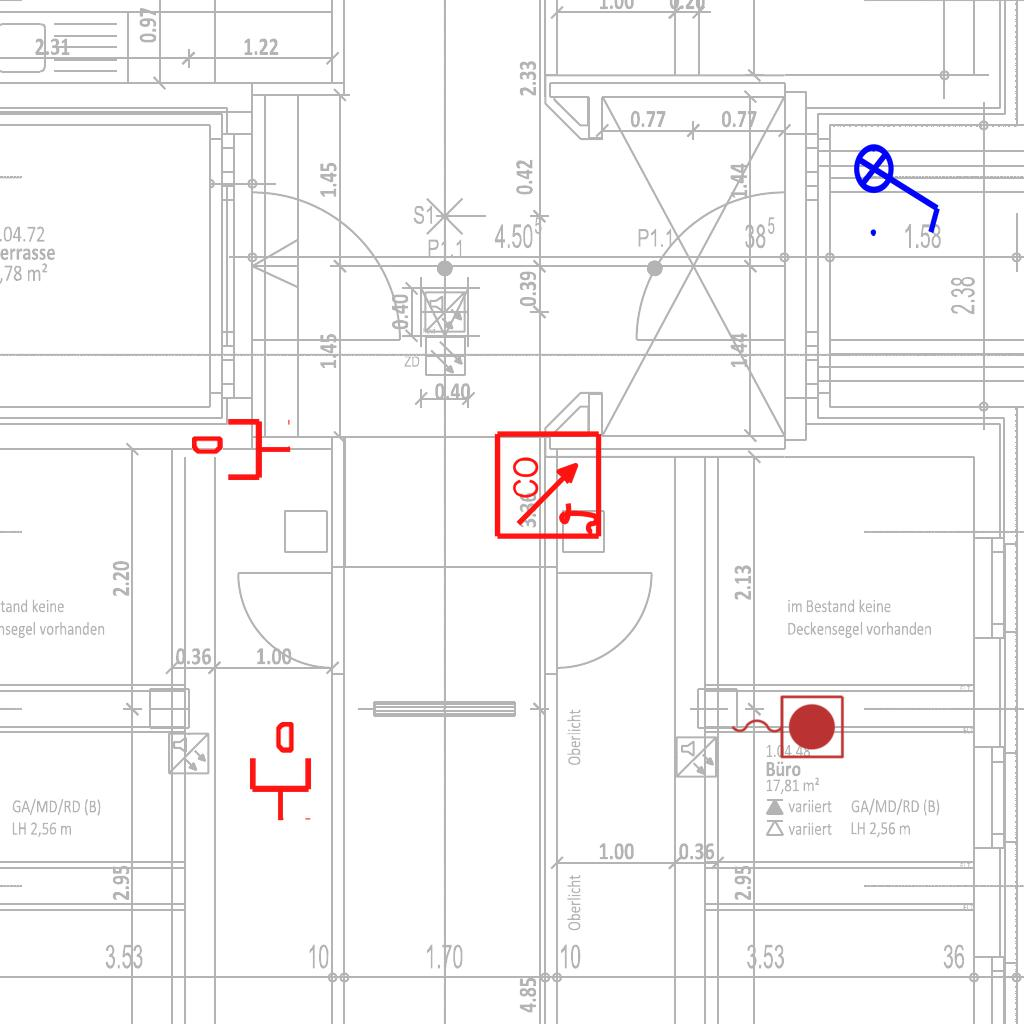Ausschalter_beleuchtet: (852, 130, 948, 242)
Datenanschluss_einfach: (246, 722, 315, 822), (192, 415, 292, 484)
ROA_Rauchmelder_optisch_mit_Signalgeber_(Sockelsirene): (493, 428, 606, 541)
Zugtaster: (726, 690, 848, 762)
